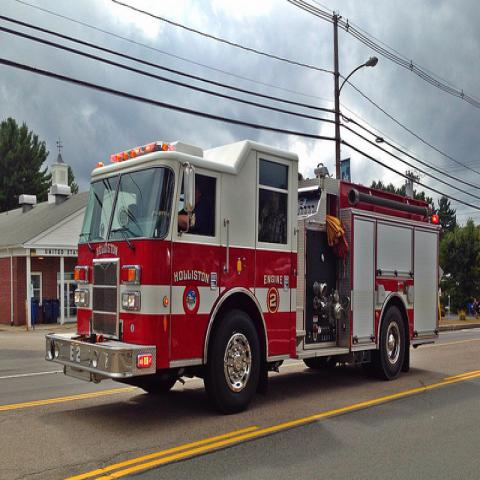truck: (44, 138, 445, 415)
